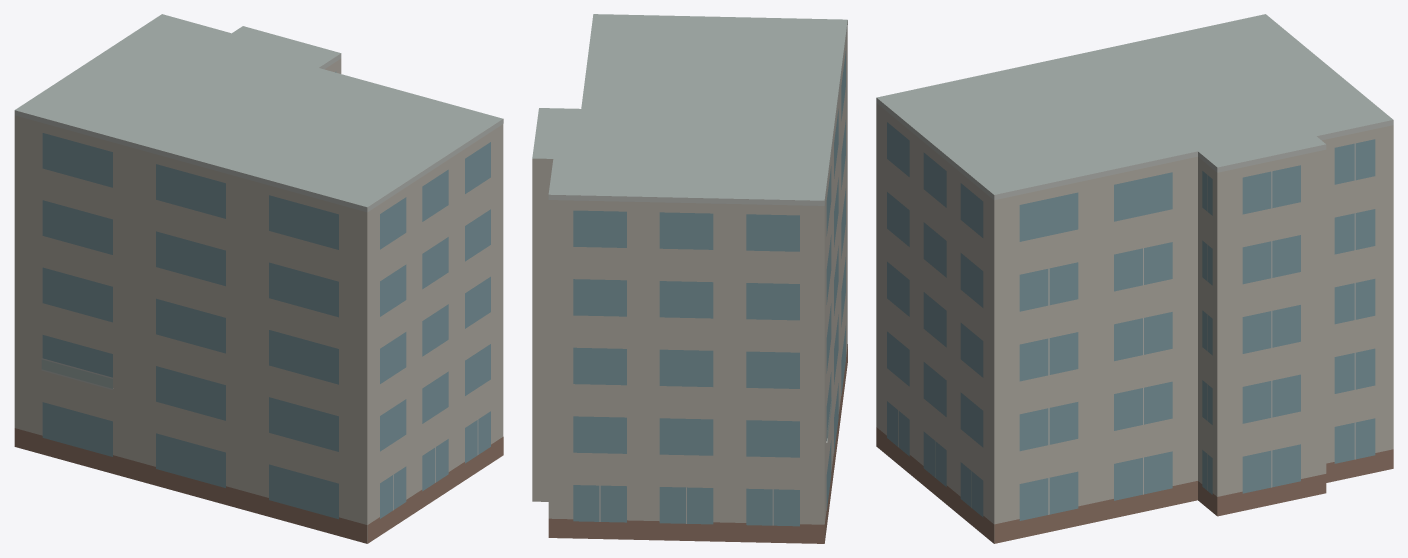
Rendered from survey-upis-32832565.glb.
The picture shows the model from 3 angles, left to right: view 1: azimuth 30°, elevation 25°; view 2: azimuth 150°, elevation 25°; view 3: azimuth 270°, elevation 25°; orthographic projection. The views are drawn at different scales.
Parts seen in each view (by area): view 1: survey-upis-32832565.tmp; view 2: survey-upis-32832565.tmp; view 3: survey-upis-32832565.tmp.
Boxes of the visible parts, box(x1,y1,x2,y2) form: survey-upis-32832565.tmp: box(14, 14, 503, 543); survey-upis-32832565.tmp: box(532, 14, 847, 543); survey-upis-32832565.tmp: box(876, 14, 1393, 543).
Size of the model in its own units: 17.97 by 16.14 by 21.69.
